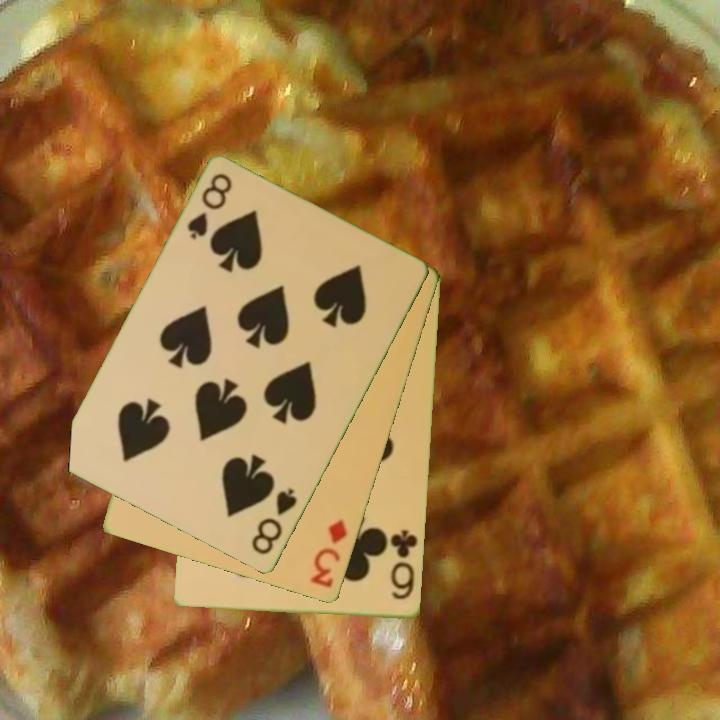3d: (307, 516, 351, 592)
6c: (387, 527, 421, 603)
8s: (248, 485, 301, 559), (183, 170, 236, 243)
